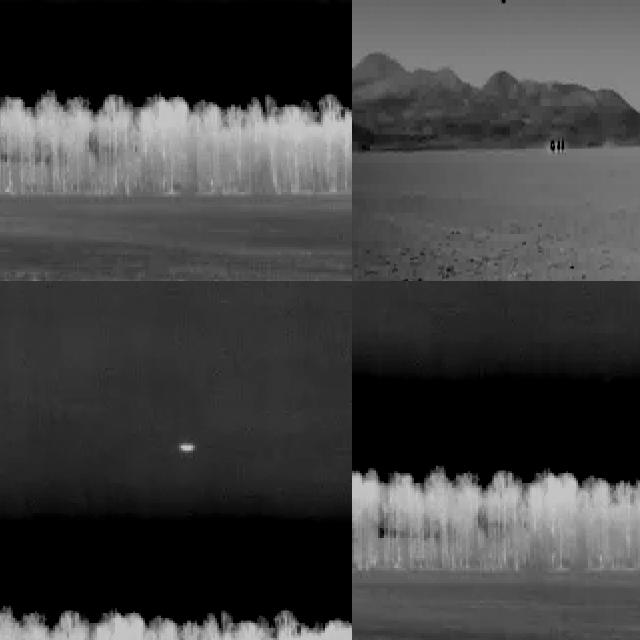1: (166, 436, 202, 466)
drone: (494, 0, 512, 16)
